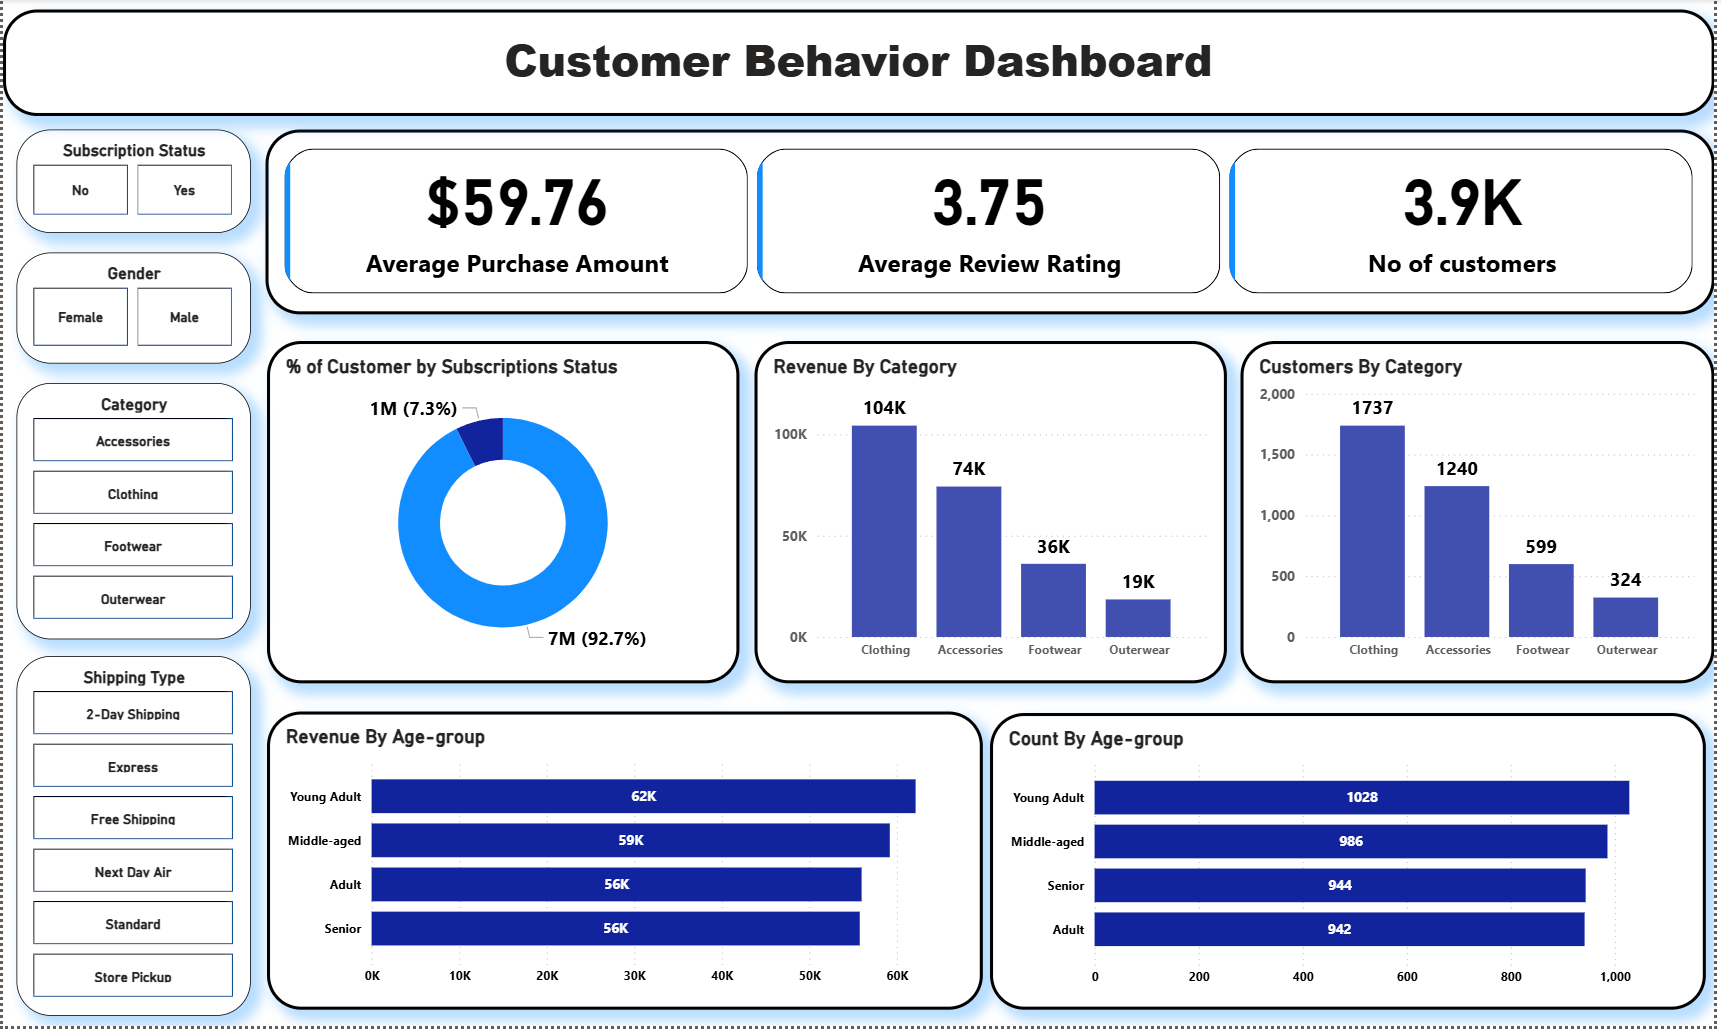

The dashboard page shown, as its layout file describes it:
{"tool":"powerbi","page":{"name":"CSB","canvas":[1500,900],"ordinal":0},"visuals":[{"type":"cardVisual","fields":{"Data":["public customer.Average_Purchase_Amount","public customer.Average_Review_Rating","public customer.No_of_customers"]},"box":[230,114.4,1269.8,161.7],"z":0},{"type":"donutChart","title":"% of Customer by Subscriptions Status","fields":{"Category":["public customer.subscription_status"],"Y":["Sum(public customer.customer_id)"]},"box":[231.4,299.7,414.1,299.7],"z":1000},{"type":"clusteredColumnChart","title":"Revenue By Category","fields":{"Category":["public customer.category"],"Y":["Sum(public customer.purchase_amount)"]},"box":[658.6,299.7,414.1,299.7],"z":2000},{"type":"clusteredColumnChart","title":"Customers By Category","fields":{"Category":["public customer.category"],"Y":["CountNonNull(public customer.customer_id)"]},"box":[1084.5,299.7,415.4,299.7],"z":3000},{"type":"advancedSlicerVisual","title":"Subscription Status","fields":{"Values":["public customer.subscription_status"]},"box":[11.8,114.4,205.1,90.7],"z":4000},{"type":"advancedSlicerVisual","title":"Gender","fields":{"Values":["public customer.gender"]},"box":[11.8,222.2,205.1,97.3],"z":5000},{"type":"advancedSlicerVisual","title":"Category","fields":{"Values":["public customer.category"]},"box":[11.8,336.5,205.1,224.8],"z":6000},{"type":"advancedSlicerVisual","title":"Shipping Type","fields":{"Values":["public customer.shipping_type"]},"box":[11.8,575.8,205.1,315.5],"z":7000},{"type":"clusteredBarChart","title":"Revenue By Age-group","fields":{"Category":["public customer.age_group"],"Y":["Sum(public customer.purchase_amount)"]},"box":[231.7,624.2,627,261.1],"z":8000},{"type":"clusteredBarChart","title":"Count By Age-group","fields":{"Category":["public customer.age_group"],"Y":["CountNonNull(public customer.customer_id)"]},"box":[865,625.7,627,260.3],"z":9000},{"type":"textbox","box":[0,9.2,1499.9,93.3],"z":10000}]}

Visuals, with their boxes in screenshot pixels (x1, y1, x2, y2), scaled from the page's 1500x900 canvas onto the 1721x1035 screenshot:
cardVisual - public customer.Average_Purchase_Amount x public customer.Average_Review_Rating: box(264, 132, 1720, 318)
"% of Customer by Subscriptions Status" donutChart: box(265, 345, 741, 689)
"Revenue By Category" clusteredColumnChart: box(756, 345, 1231, 689)
"Customers By Category" clusteredColumnChart: box(1244, 345, 1720, 689)
"Subscription Status" advancedSlicerVisual: box(14, 132, 249, 236)
"Gender" advancedSlicerVisual: box(14, 256, 249, 367)
"Category" advancedSlicerVisual: box(14, 387, 249, 645)
"Shipping Type" advancedSlicerVisual: box(14, 662, 249, 1025)
"Revenue By Age-group" clusteredBarChart: box(266, 718, 985, 1018)
"Count By Age-group" clusteredBarChart: box(992, 720, 1712, 1019)
textbox: box(0, 11, 1720, 118)
